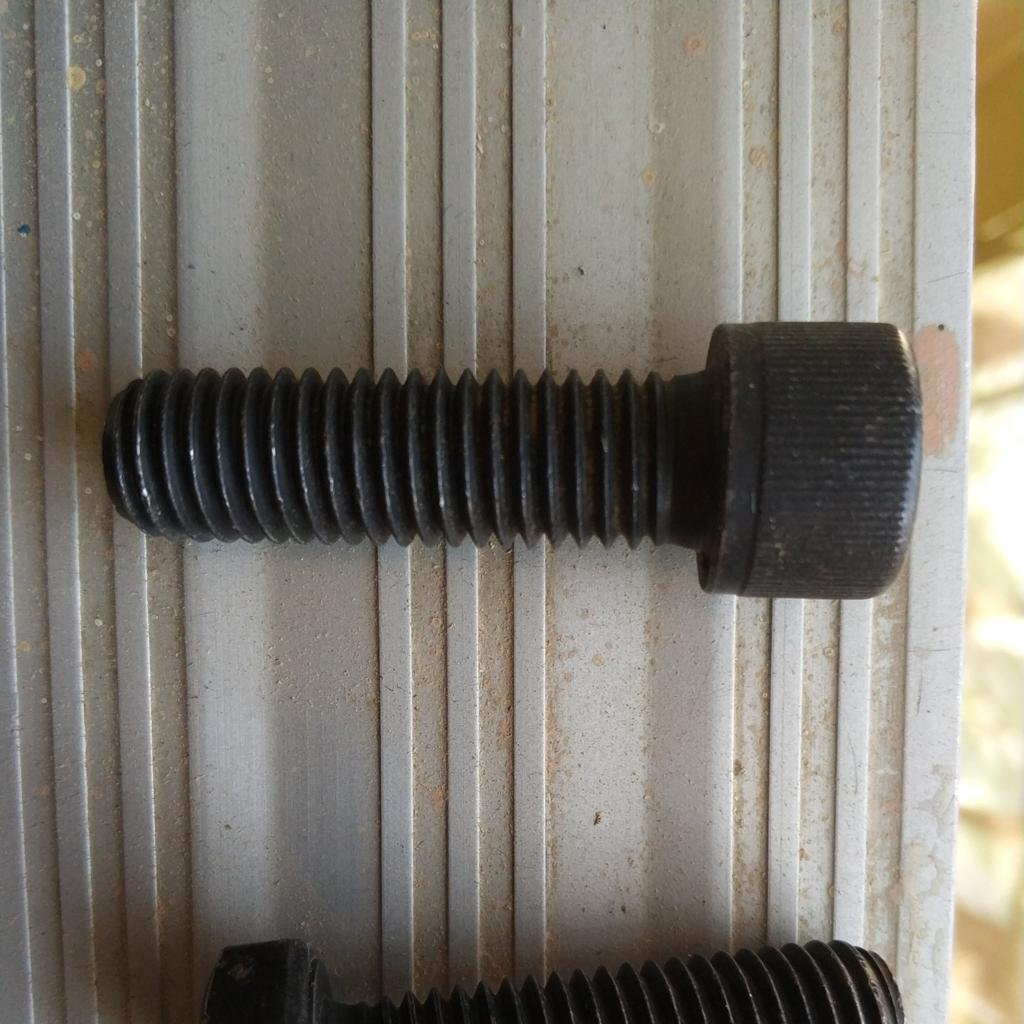screwtype1black: (94, 311, 933, 619)
screwtype2black: (191, 914, 910, 1023)
